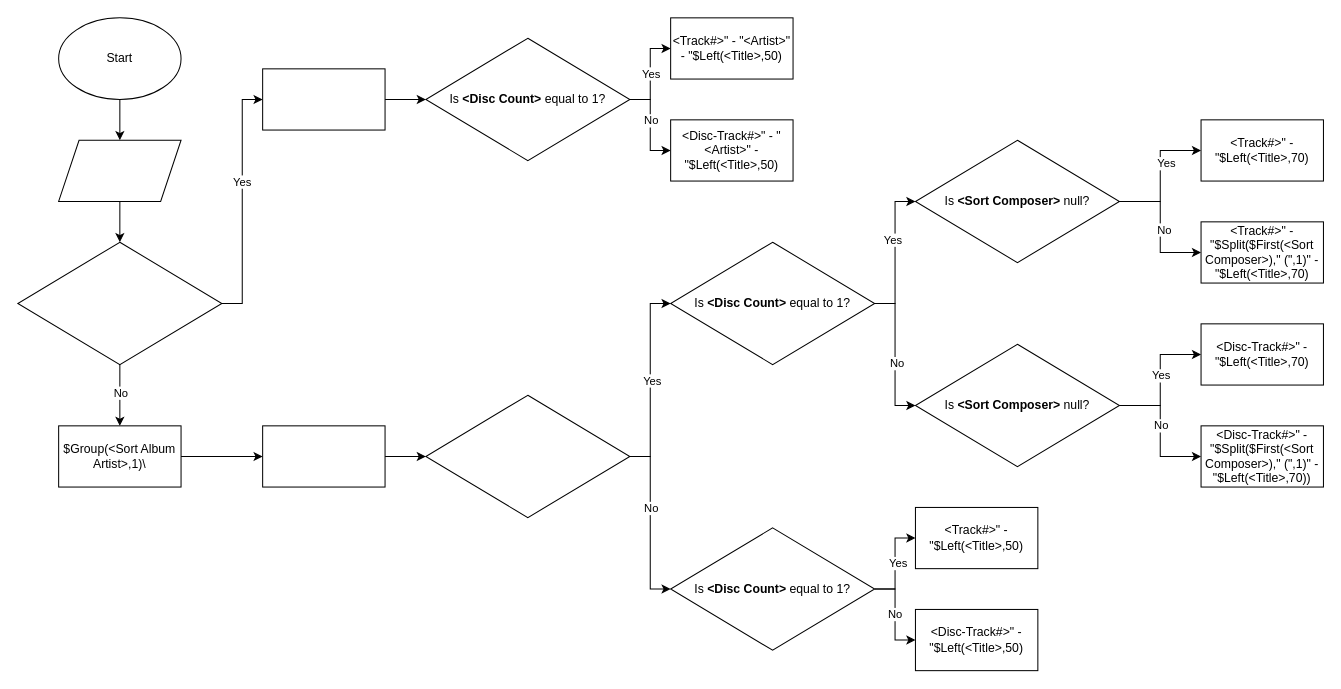
Image size: 1341x689. Some labels were removed from this diagram. The shapes that lost their labels are listed below. From the top down, each one's centre as x and y in pixels, then its label:
(x=323, y=99): “_Various Artists"\
(x=119, y=170): Track
(x=119, y=303): Is <Album Artist> "Various Artists"?
(x=323, y=456): <Album Artist>\<Year (yyyy)>" - "$Left(<Album>,70)\
(x=527, y=456): Is <Genre Category> ”Classical"?
